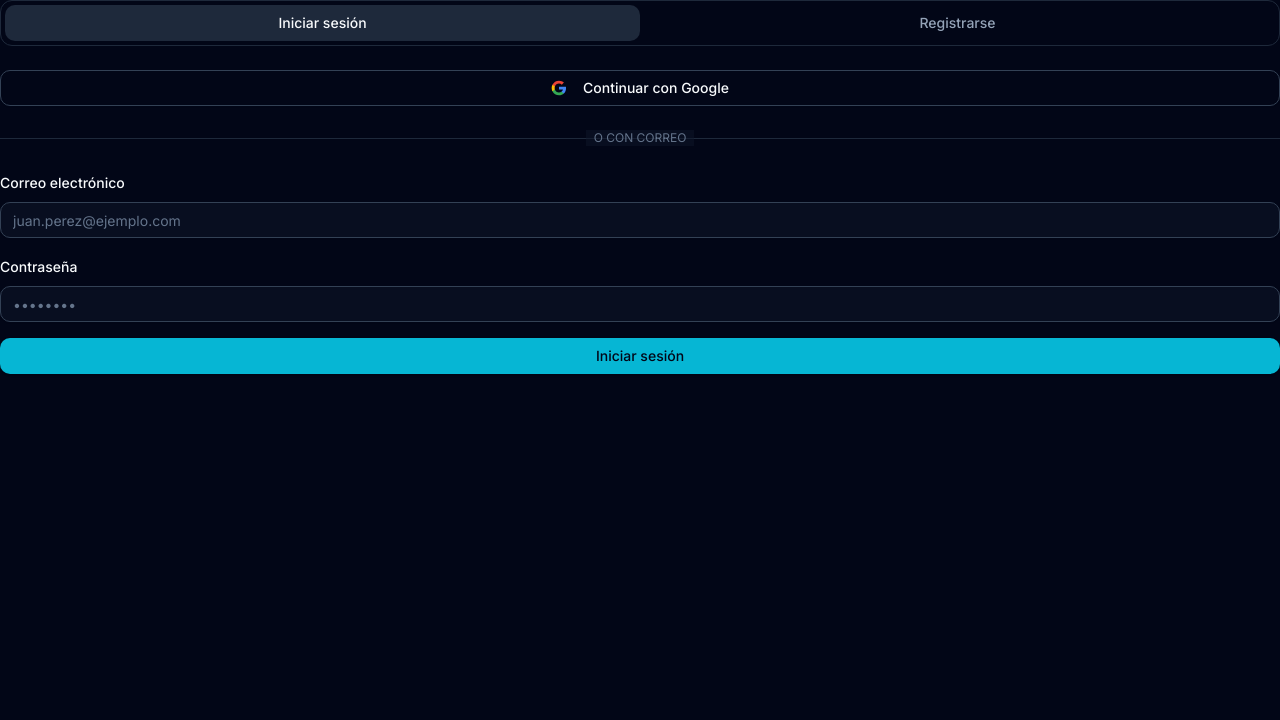
Test: LoginForm › switches to register mode and shows extra fields
Step 1. Click the button "Registrarse" → [958, 23], box [640, 5, 1275, 41]
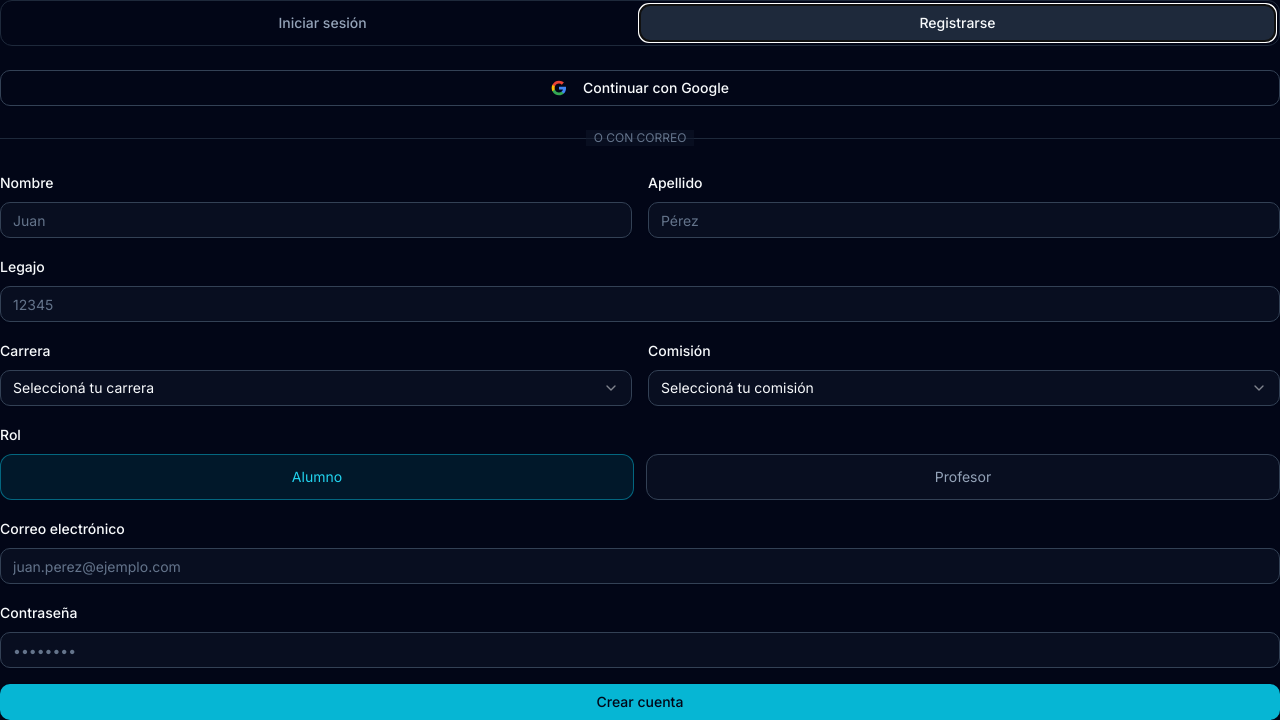
Expected: the field labelled "Nombre" is shown, [0, 202, 632, 238]
Expected: the field labelled "Apellido" is shown, [648, 202, 1279, 238]
Expected: the field labelled "Legajo" is shown, [0, 286, 1279, 322]
